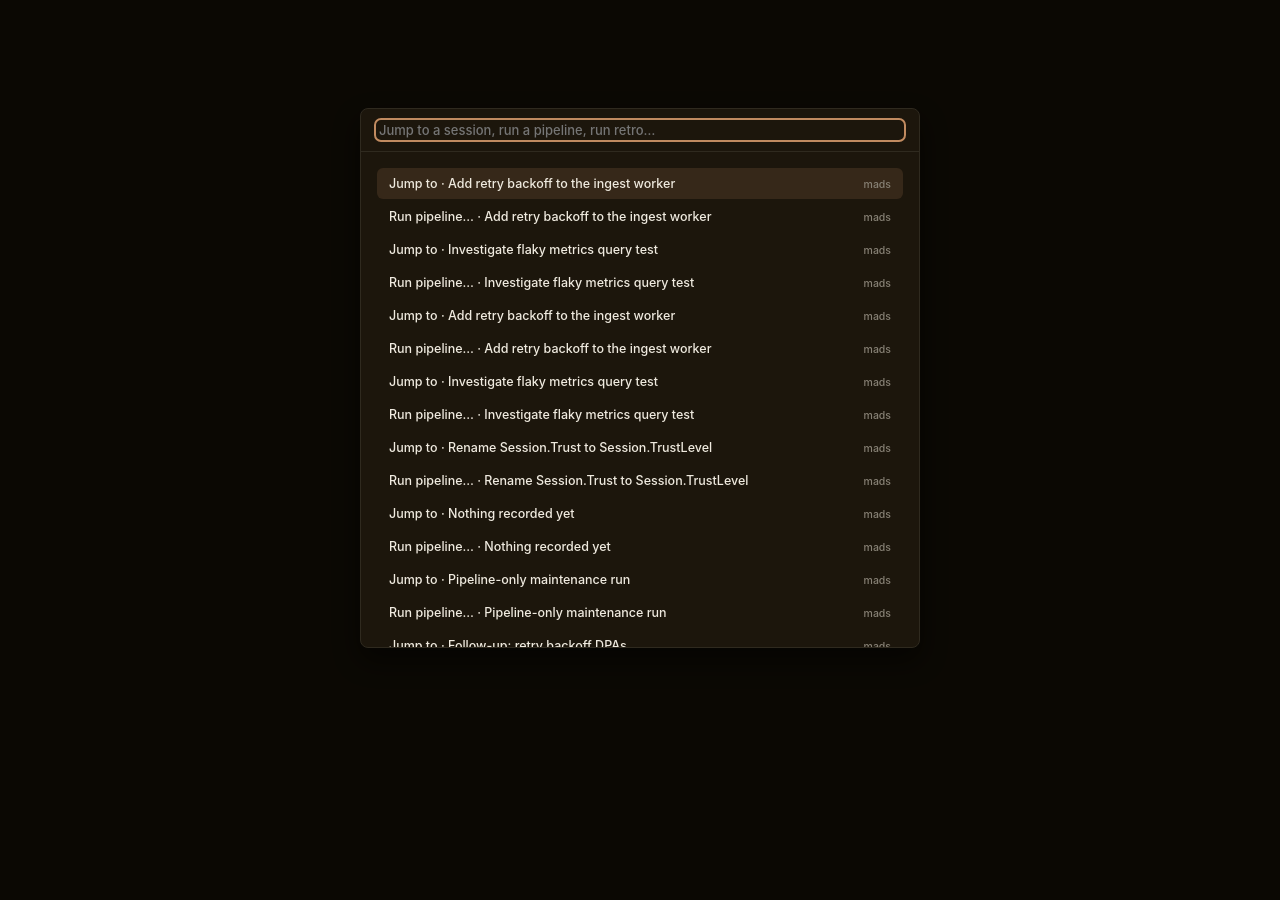
Test case: CommandPalette › shows a no-matches state for a query with no results
The width and height of the screenshot is (1280, 900).
Type "zzz-nonexistent" into the field with placeholder "Jump to a session, run a pipeline, run retro…" at (640,130), box [377,121,903,139]
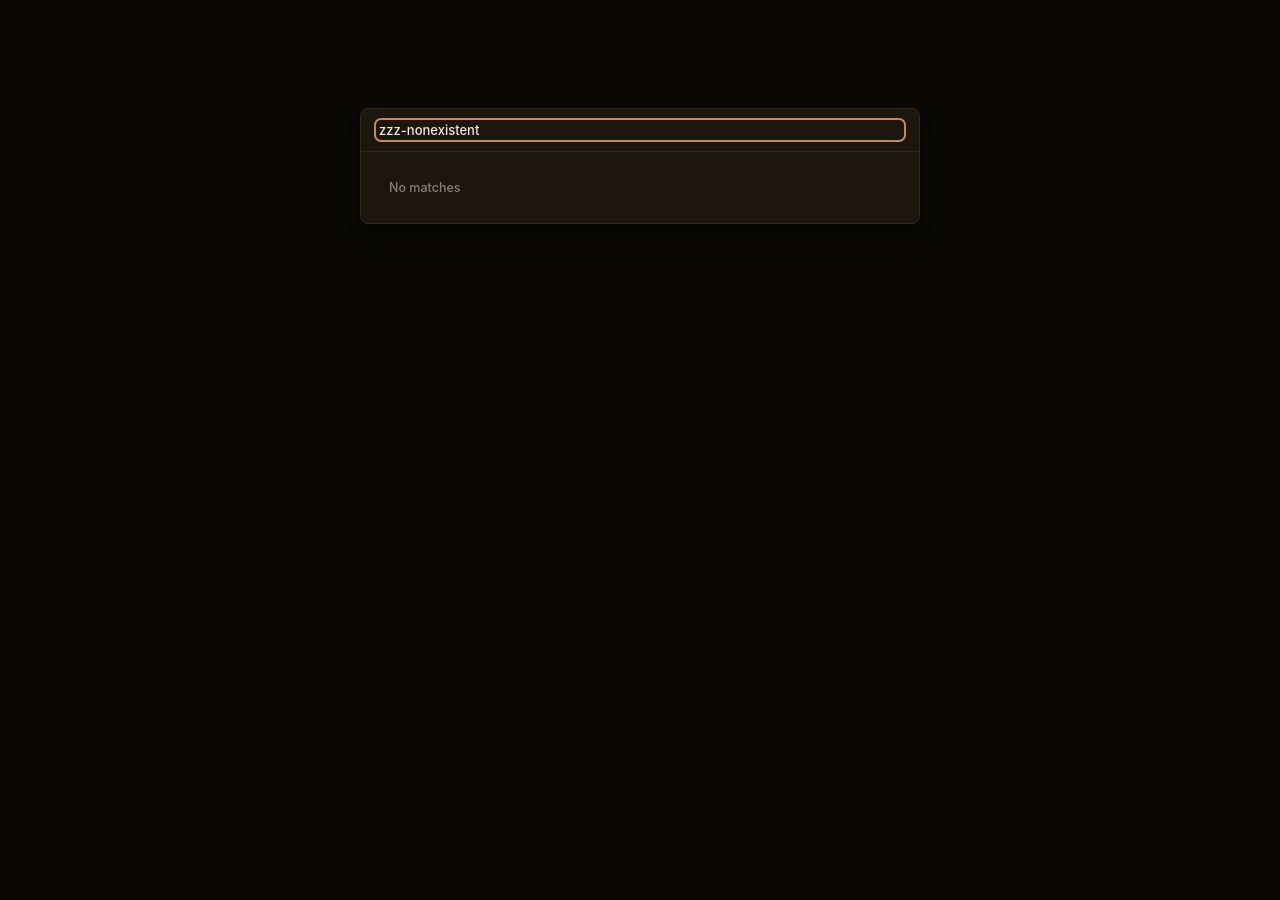
expect the text "No matches" is shown: met, box [389,180,460,195]
